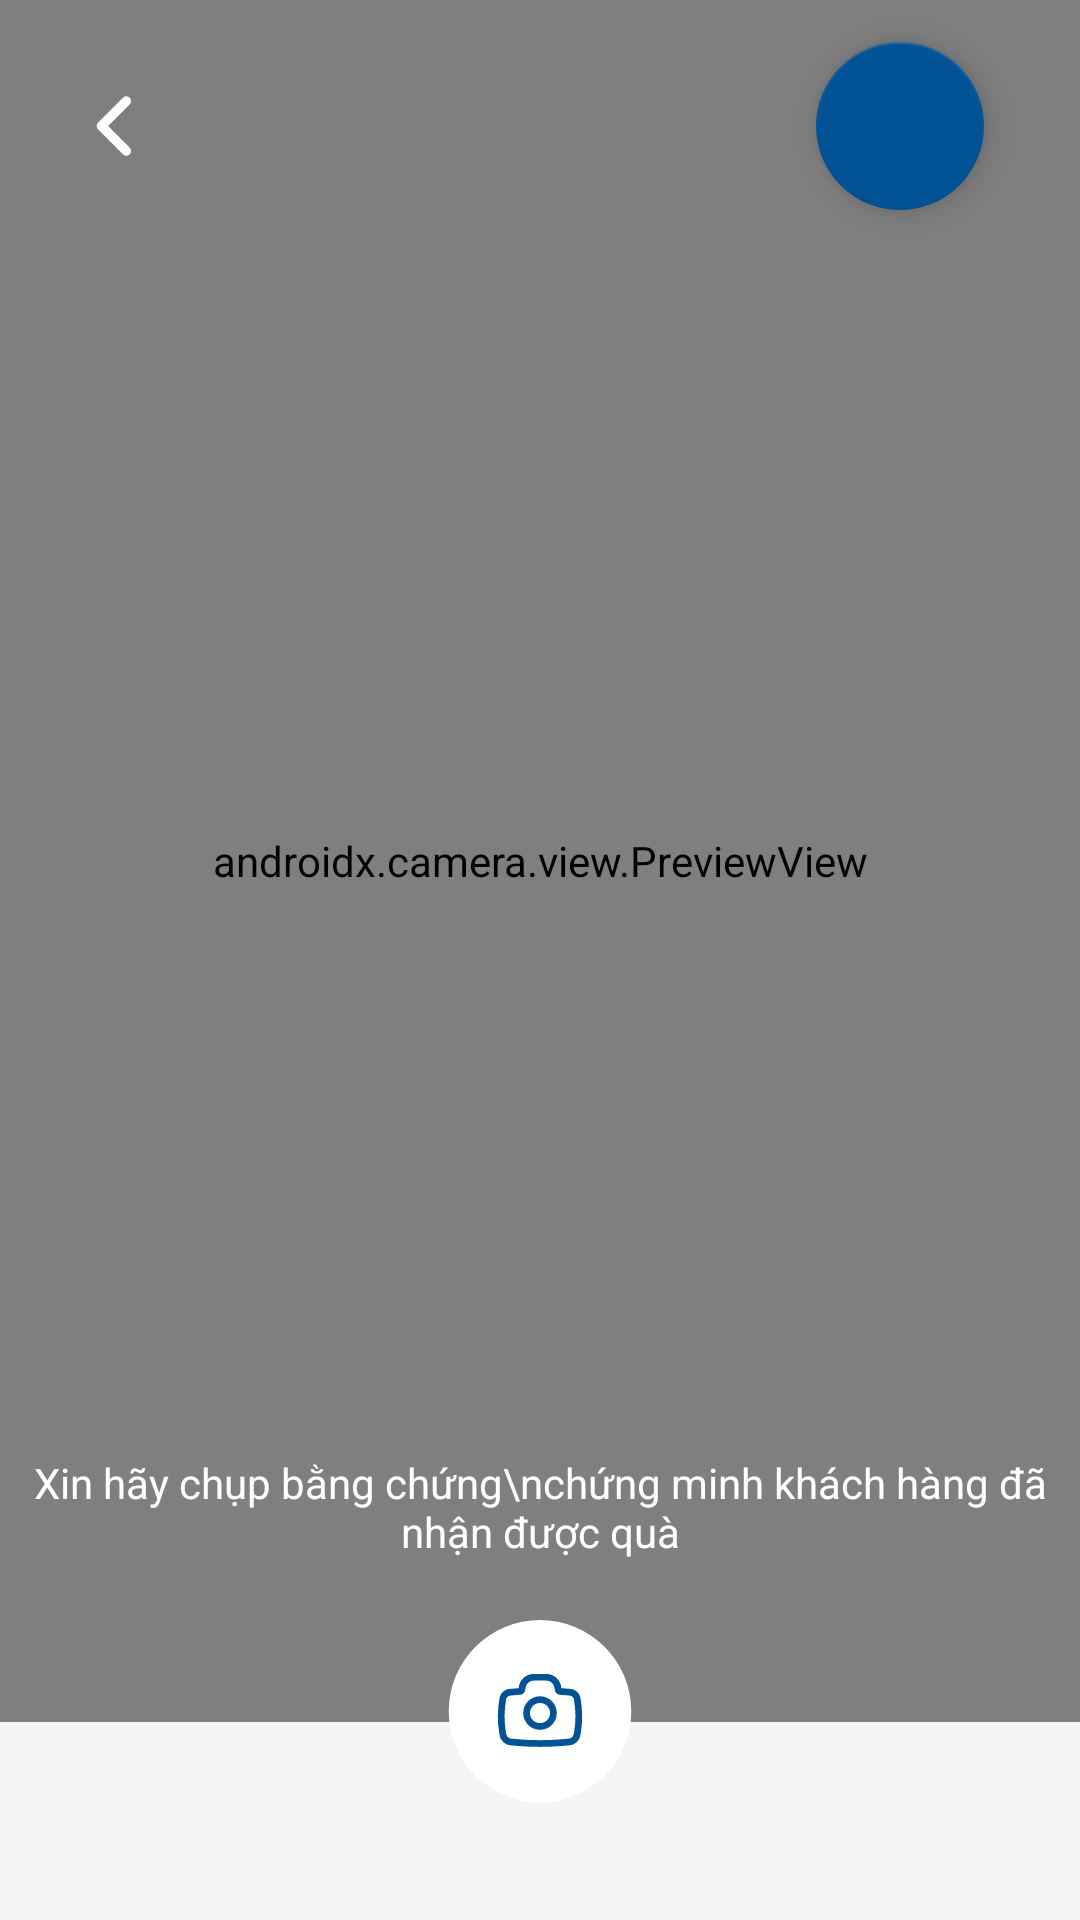

Named icons in this screenshot (1080 x 1920) and their centers, point (x, y):
back arrow: point (113, 126)
take photo: point (540, 1722)
